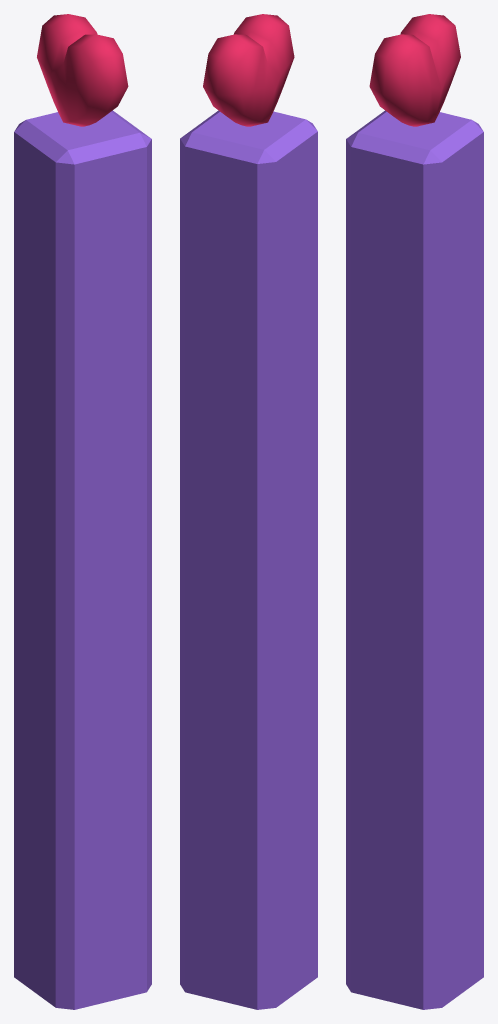
File: gate1.fbx
3 renders of one model, left to right at view 1: azimuth 30°, elevation 25°; view 2: azimuth 150°, elevation 25°; view 3: azimuth 330°, elevation 25°, orthographic.
Visible parts, largest first — view 1: Plane.001, Cube.003; view 2: Plane.001, Cube.003; view 3: Plane.001, Cube.003.
Part boxes in pixels (<box>): Plane.001: <box>14,110,151,1009</box>; Cube.003: <box>37,14,128,126</box>; Plane.001: <box>180,110,317,1009</box>; Cube.003: <box>203,14,294,126</box>; Plane.001: <box>346,110,483,1009</box>; Cube.003: <box>369,14,460,126</box>.
Size of the model in its own units: 20 by 190 by 22.79.
